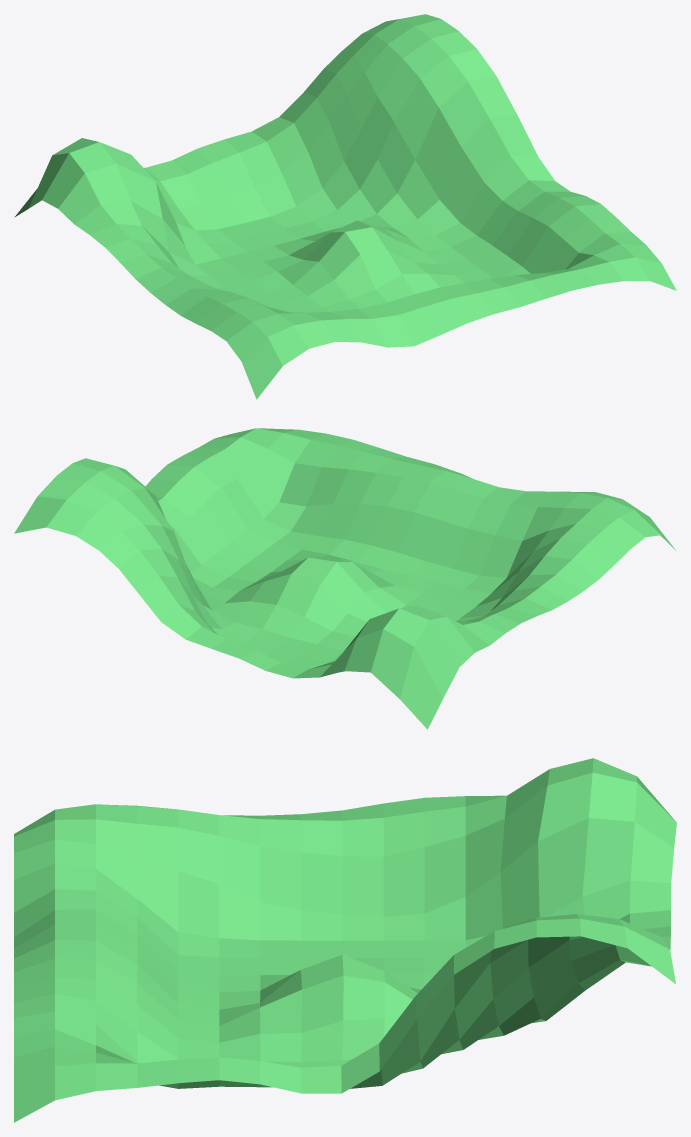
The model's file is lowpoly_test.glb.
3 views of the same model, one above another, from view 1: azimuth 30°, elevation 25°; view 2: azimuth 150°, elevation 25°; view 3: azimuth 270°, elevation 25° (orthographic). The views are drawn at different scales.
Parts seen in each view (by area): view 1: Plane; view 2: Plane; view 3: Plane.
Part boxes in pixels (<box>): Plane: <box>14,14,676,399</box>; Plane: <box>14,428,675,729</box>; Plane: <box>14,758,676,1122</box>.
Bounding box in the file's own units: 201 × 65.53 × 202.
